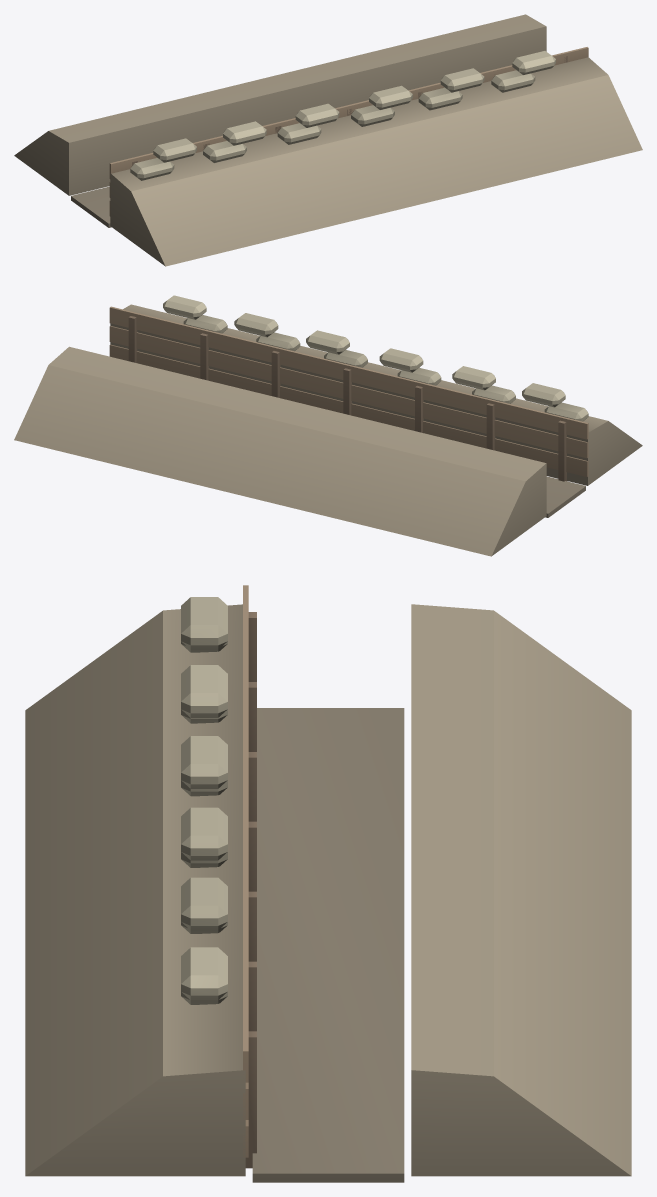
The model's file is mil_trench.glb.
3 views of the same model, one above another, from view 1: azimuth 30°, elevation 25°; view 2: azimuth 150°, elevation 25°; view 3: azimuth 270°, elevation 25° (orthographic). The views are drawn at different scales.
Visible parts, largest first — view 1: mil_trench; view 2: mil_trench; view 3: mil_trench.
Boxes of the visible parts, x1,y1,x2,y2 form: mil_trench: (14,14,642,266); mil_trench: (14,295,642,556); mil_trench: (25,585,631,1182).
Size of the model in its own units: 8 by 1.32 by 4.4.
